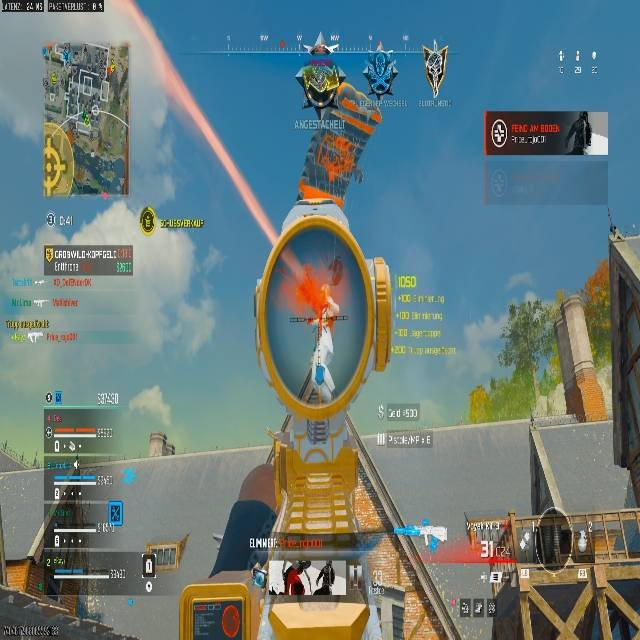head: (295, 60, 343, 106), (374, 53, 387, 68)
player: (292, 55, 384, 185), (362, 53, 398, 99)
